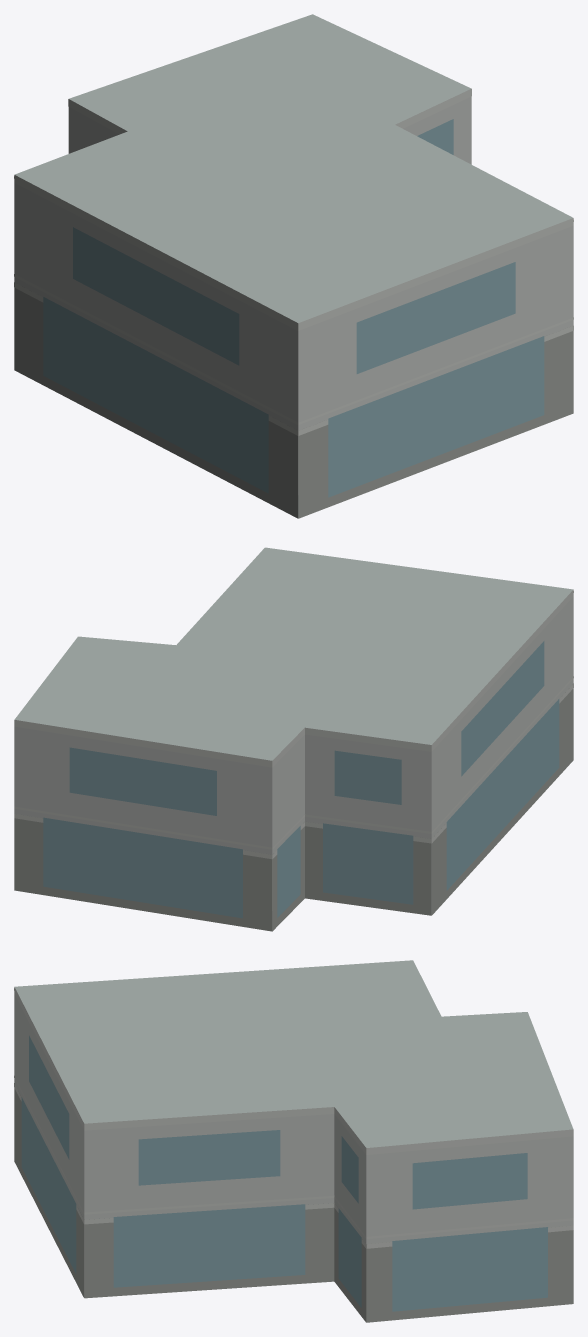
Rendered from survey-upis-32923488.glb.
3 views of the same model, one above another, from view 1: azimuth 30°, elevation 25°; view 2: azimuth 150°, elevation 25°; view 3: azimuth 270°, elevation 25° (orthographic). The views are drawn at different scales.
Parts seen in each view (by area): view 1: survey-upis-32923488.tmp; view 2: survey-upis-32923488.tmp; view 3: survey-upis-32923488.tmp.
Boxes of the visible parts, bbox=[...] form: survey-upis-32923488.tmp: bbox=[14, 14, 573, 518]; survey-upis-32923488.tmp: bbox=[14, 547, 573, 931]; survey-upis-32923488.tmp: bbox=[14, 960, 573, 1322].
Bounding box in the file's own units: 14.11 × 6.1 × 17.74.
